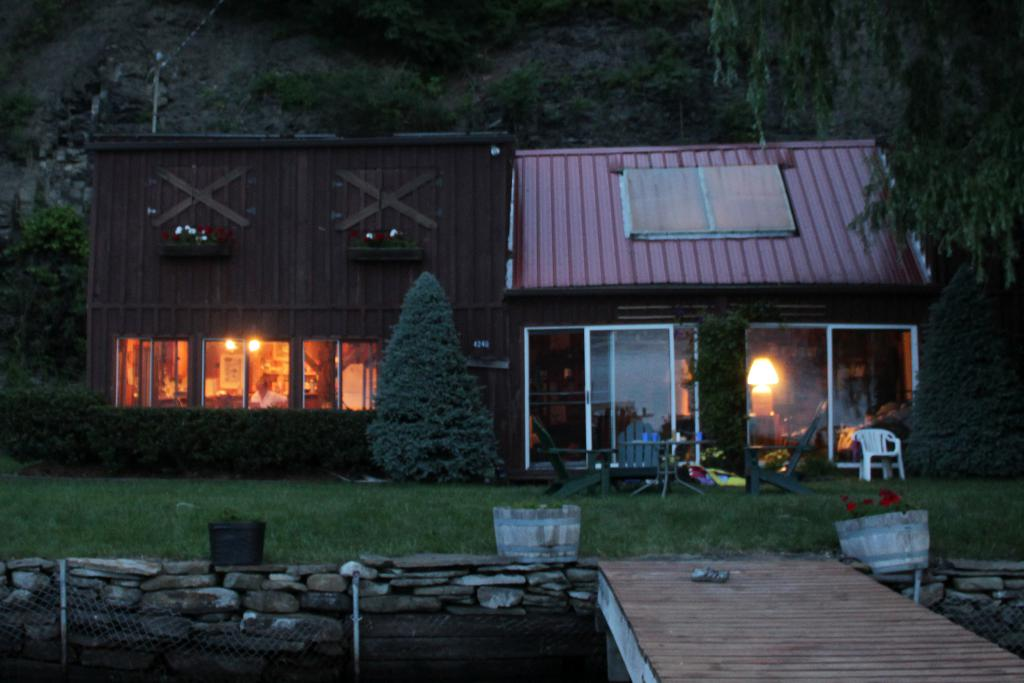Tree: (0, 0, 1023, 476)
